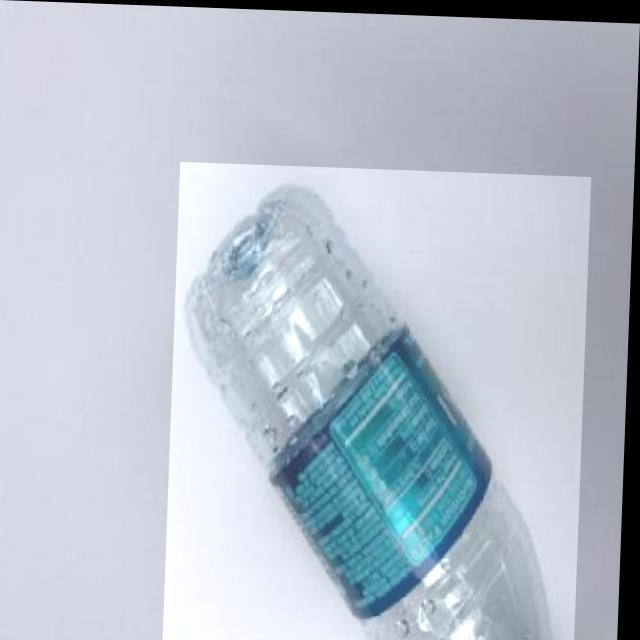good: (167, 161, 592, 640)
